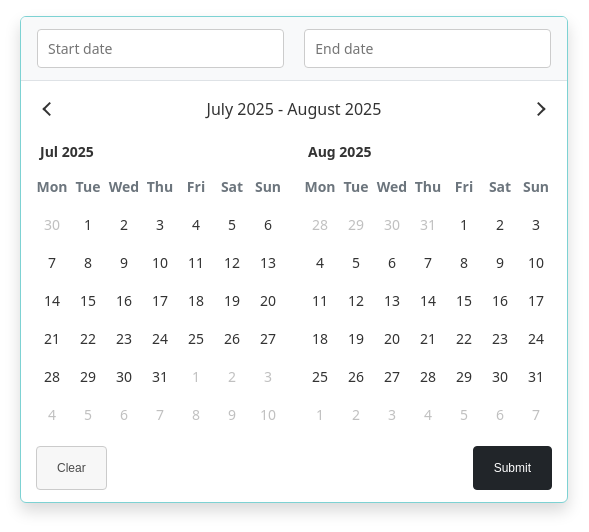
Test: CLACalendar › Additional Function Coverage › should test parseDotNotation in dateValidator
The image size is (589, 532).
Step 1. Type "7.4.25" into the field with class "date-input" showing "Start date" → (160, 48), box [37, 29, 284, 68]
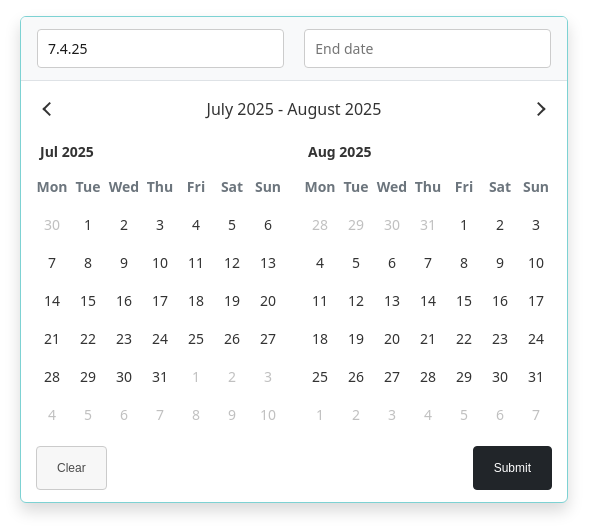
Step 2. Leave the 1st field with class "date-input", box [37, 29, 284, 68]
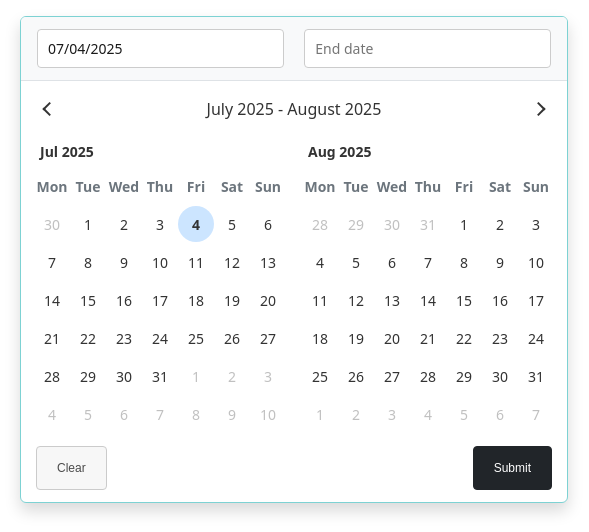
Check: the field with class "date-input" does not hold "7.4.25"
Step 3. Replace the text in the 1st field with class "date-input" with "12.25.25" → (160, 48), box [37, 29, 284, 68]
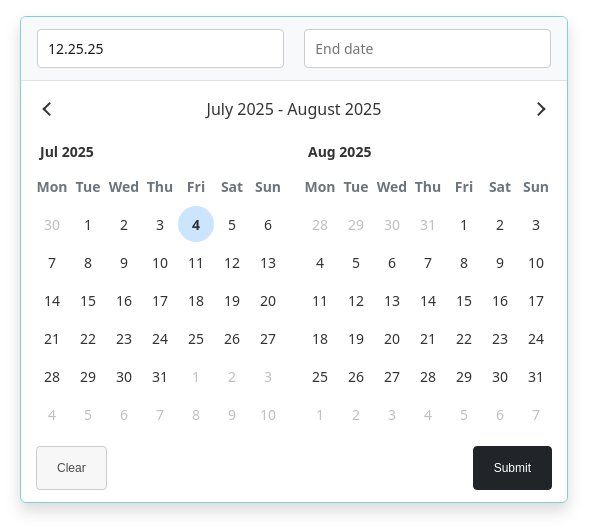
Step 4. Leave the 1st field with class "date-input", box [37, 29, 284, 68]
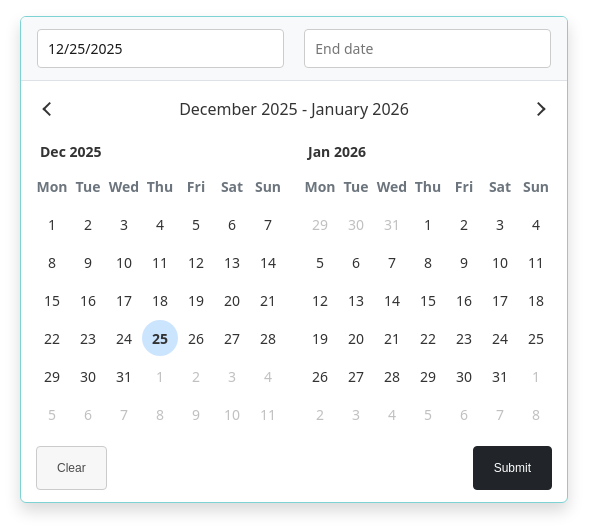
Check: the field with class "date-input" does not hold "12.25.25"
Step 5. Replace the text in the 1st field with class "date-input" with "1.1.26" → (160, 48), box [37, 29, 284, 68]
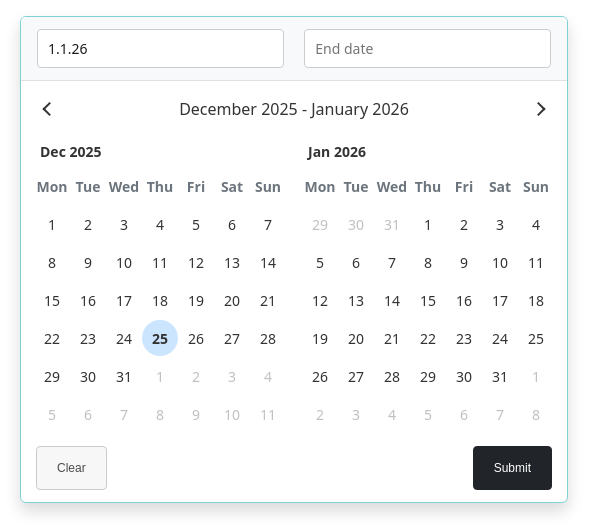
Step 6. Leave the 1st field with class "date-input", box [37, 29, 284, 68]
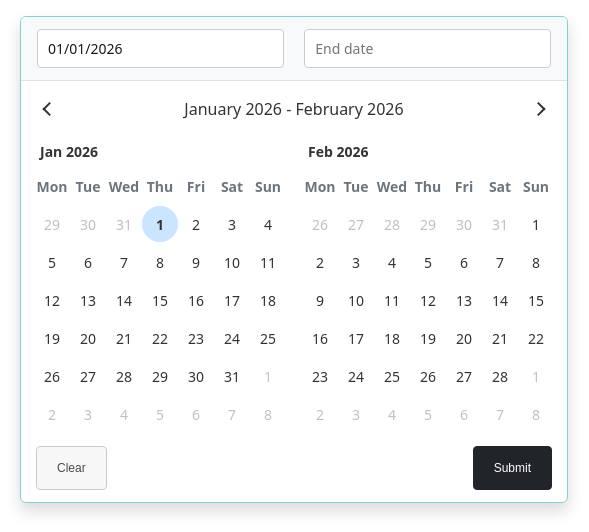
Check: the field with class "date-input" does not hold "1.1.26", box [37, 29, 284, 68]
